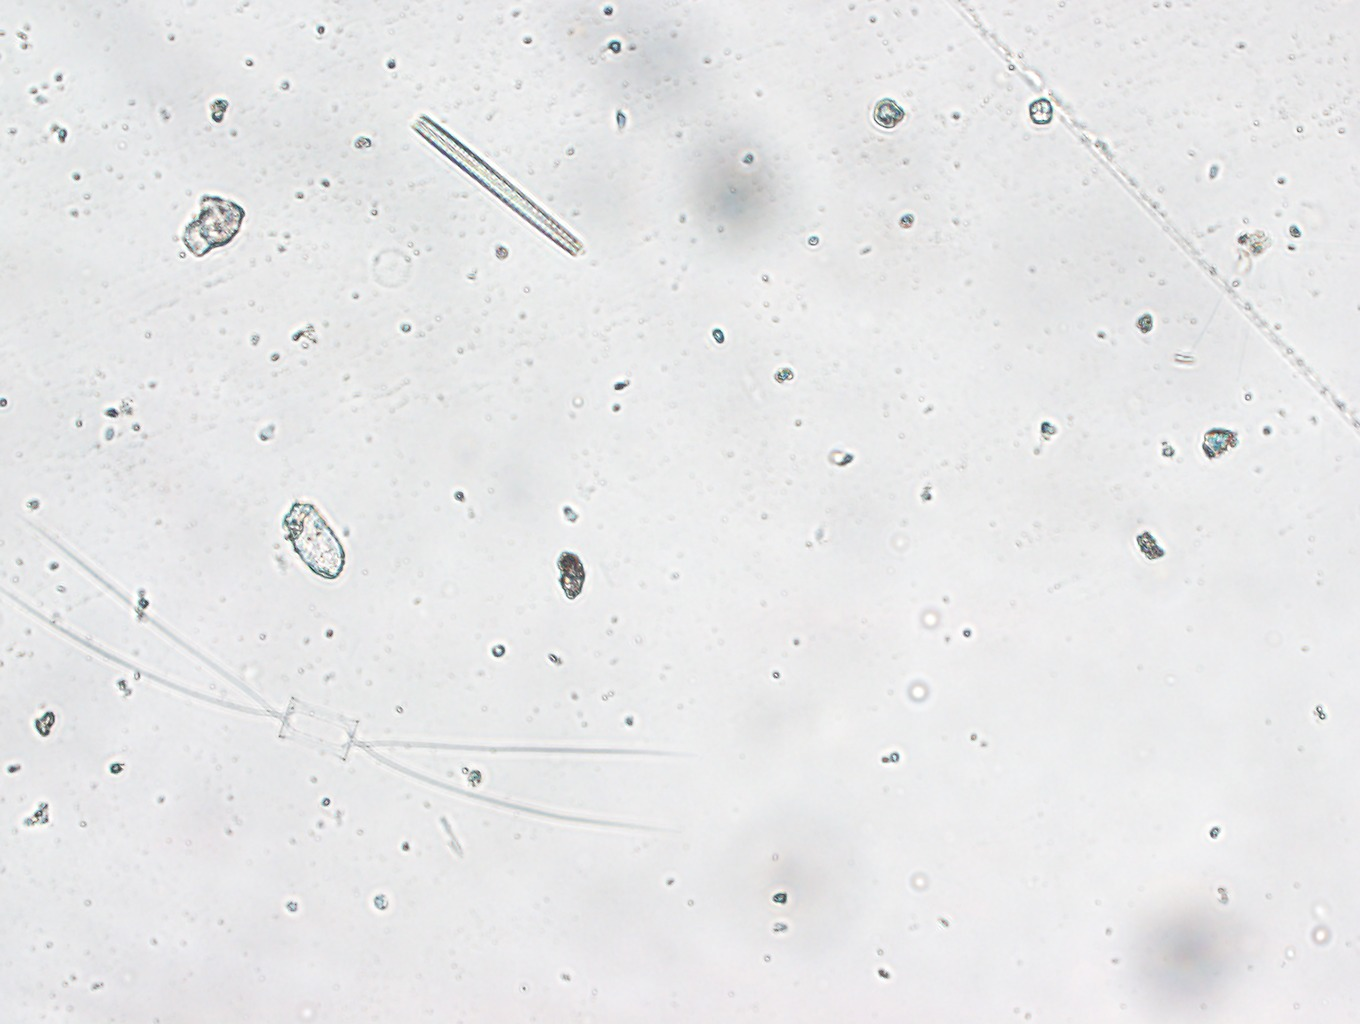chaetoceros: (1, 523, 734, 841)
